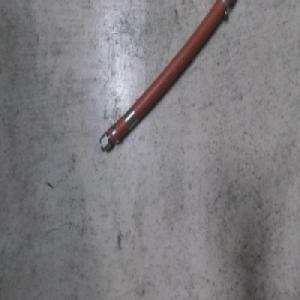Hose: (97, 0, 238, 156)
